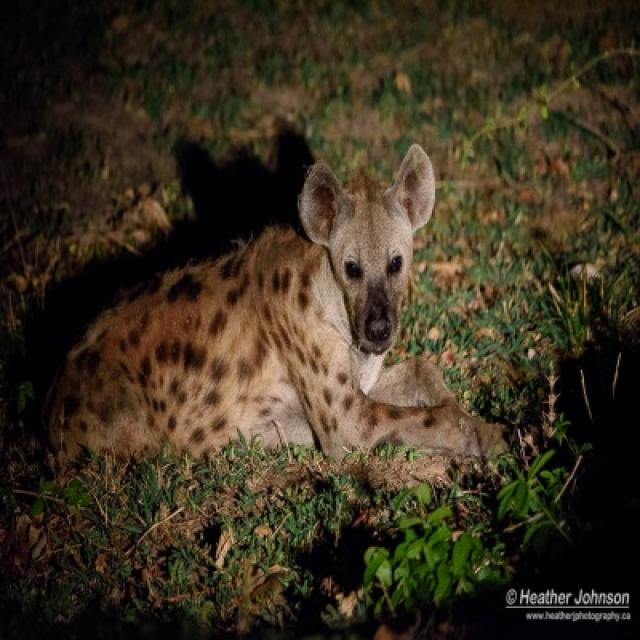hyena: (40, 144, 498, 466)
